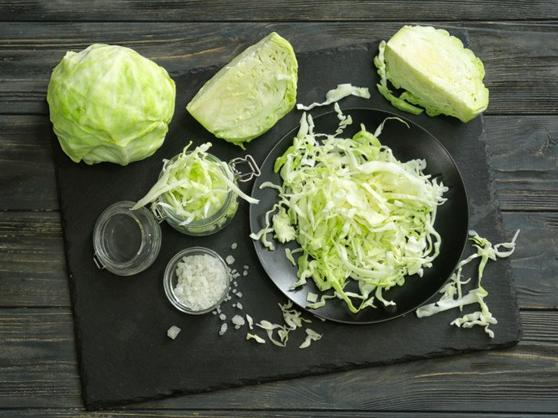cabbage: (45, 39, 178, 169)
